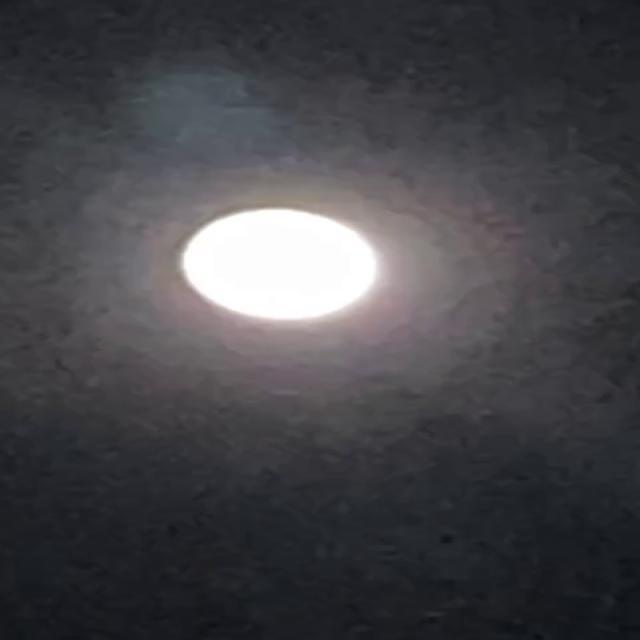moon: (157, 199, 383, 320)
